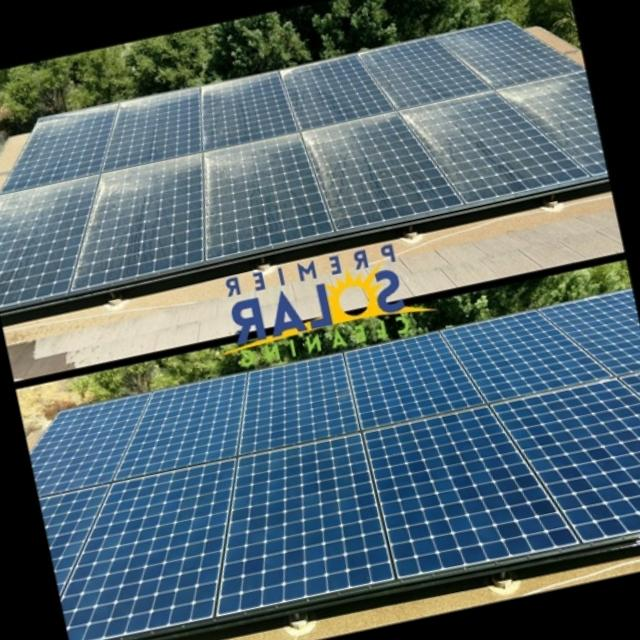faulty: (0, 16, 603, 302)
no faulty: (24, 290, 640, 640)
